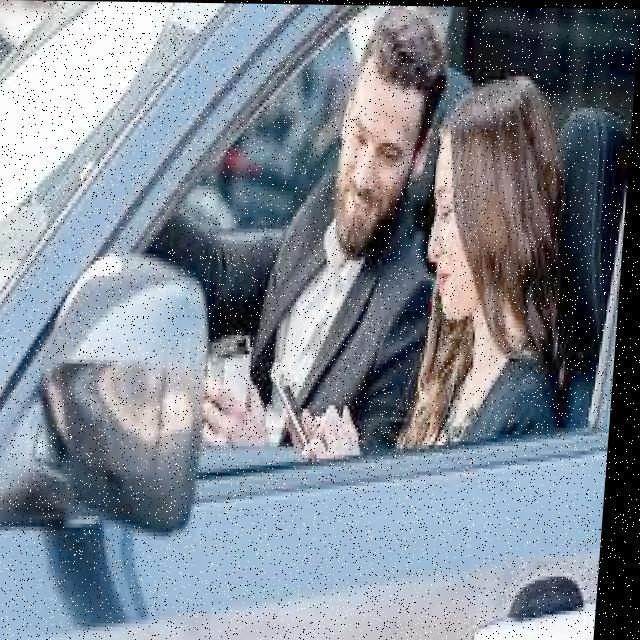noSeatbelt: (261, 158, 440, 410)
